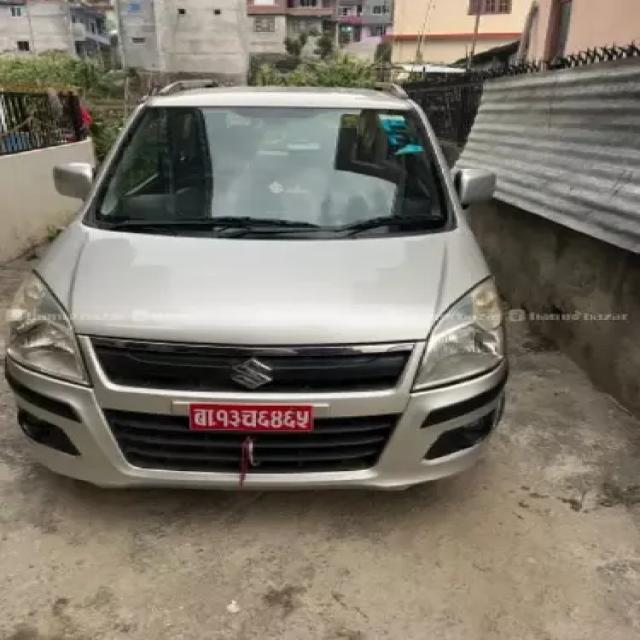License-plate: (183, 400, 314, 437)
